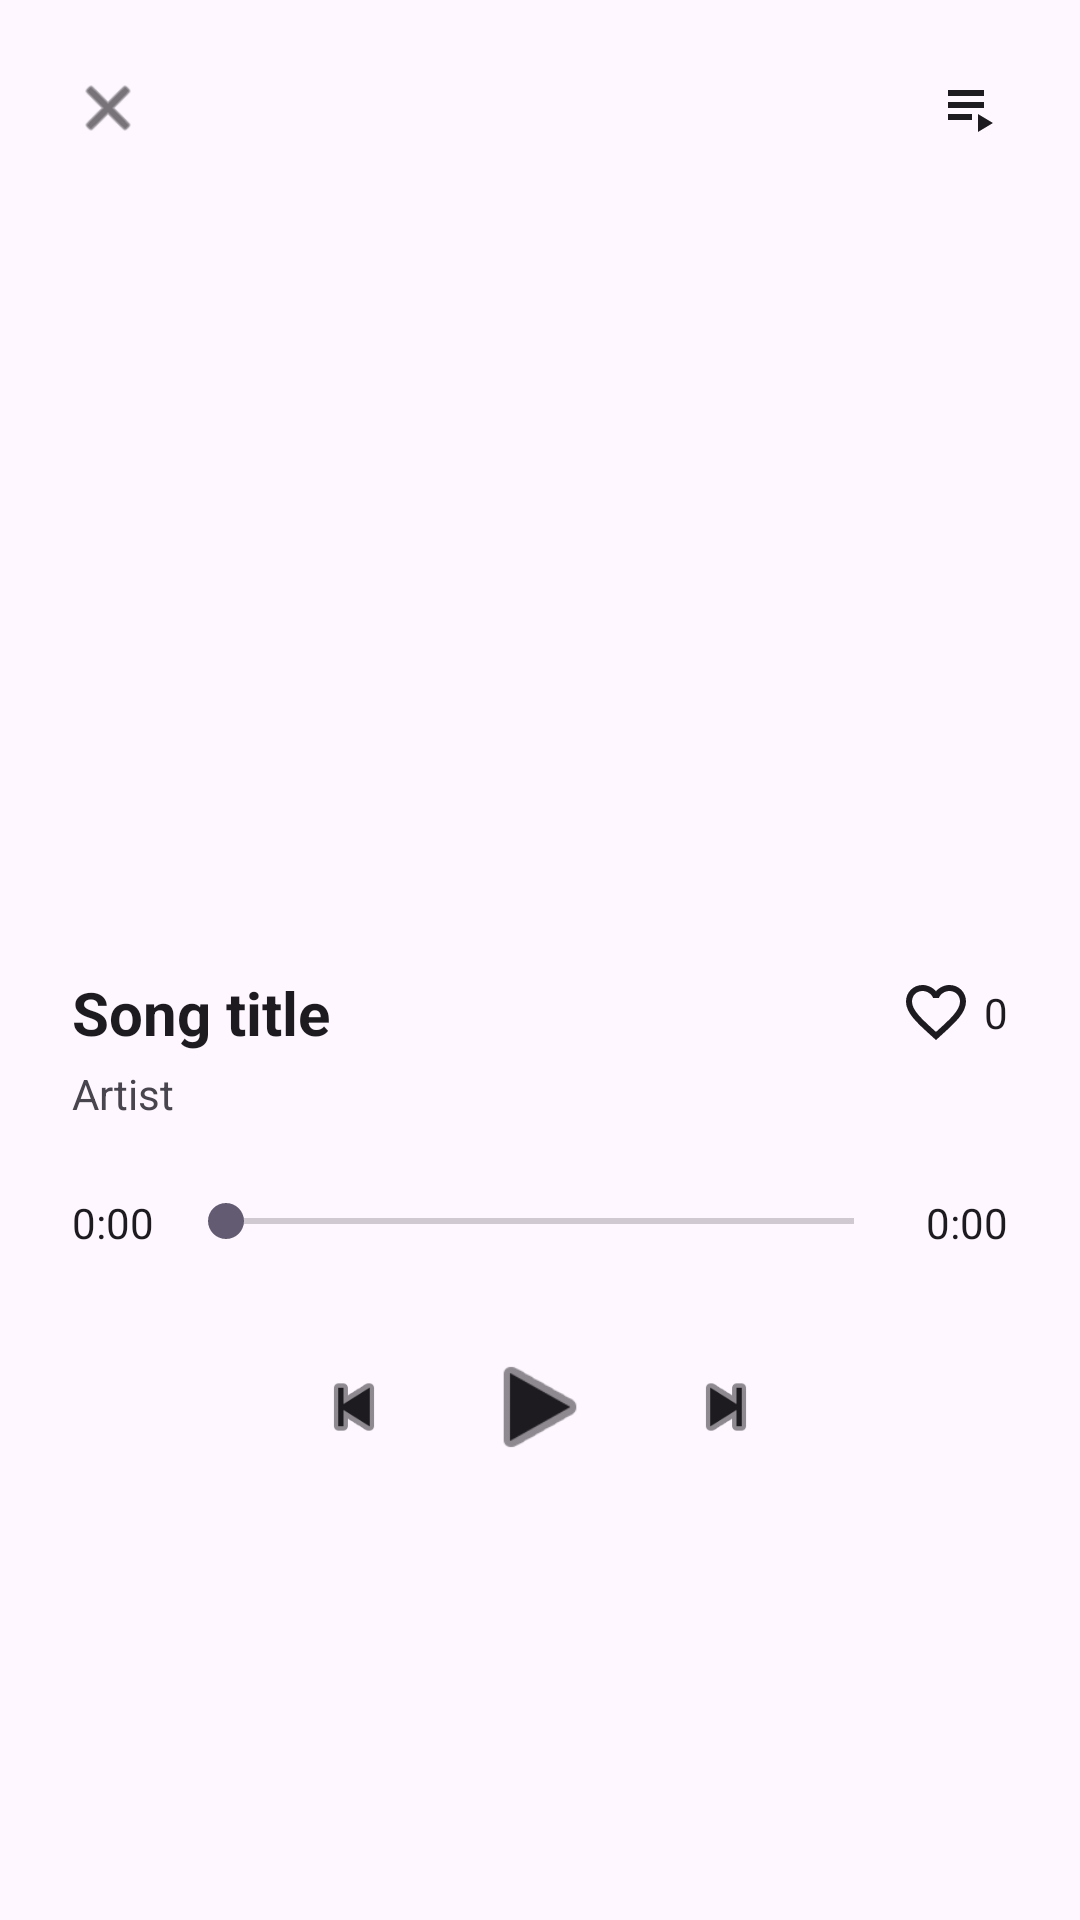

Point at icon controls on the screen. Image size 1080 x 1920, points as (x=x, y=y).
close clear cancel: (x=108, y=108)
favorite border: (x=936, y=1012)
next: (x=726, y=1407)
play: (x=540, y=1407)
playlist: (x=970, y=111)
previous: (x=354, y=1407)
